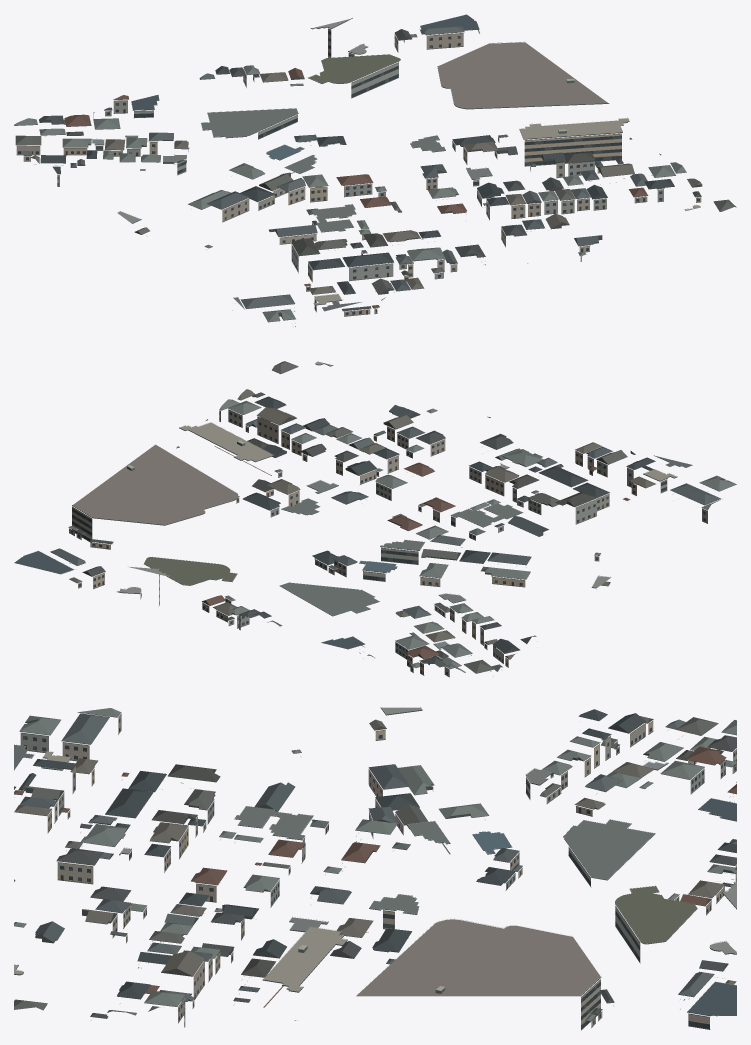
3 renders of one model, top to bottom at view 1: azimuth 30°, elevation 25°; view 2: azimuth 150°, elevation 25°; view 3: azimuth 270°, elevation 25°, orthographic. The views are drawn at different scales.
Parts seen in each view (by area): view 1: r1-c6; view 2: r1-c6; view 3: r1-c6.
Boxes of the visible parts, bbox=[...] form: r1-c6: bbox=[14, 14, 736, 326]; r1-c6: bbox=[14, 361, 736, 677]; r1-c6: bbox=[14, 707, 736, 1030].
Bounding box in the file's own units: 250 × 20.45 × 250.
